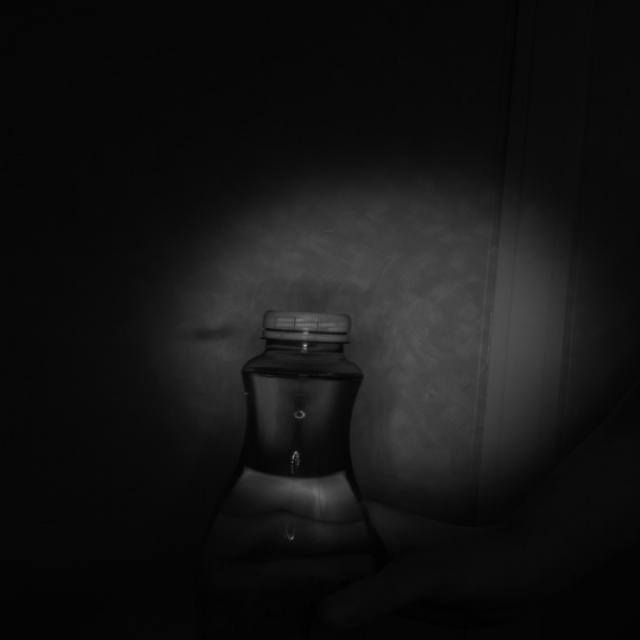Not Good: (265, 309, 352, 343)
